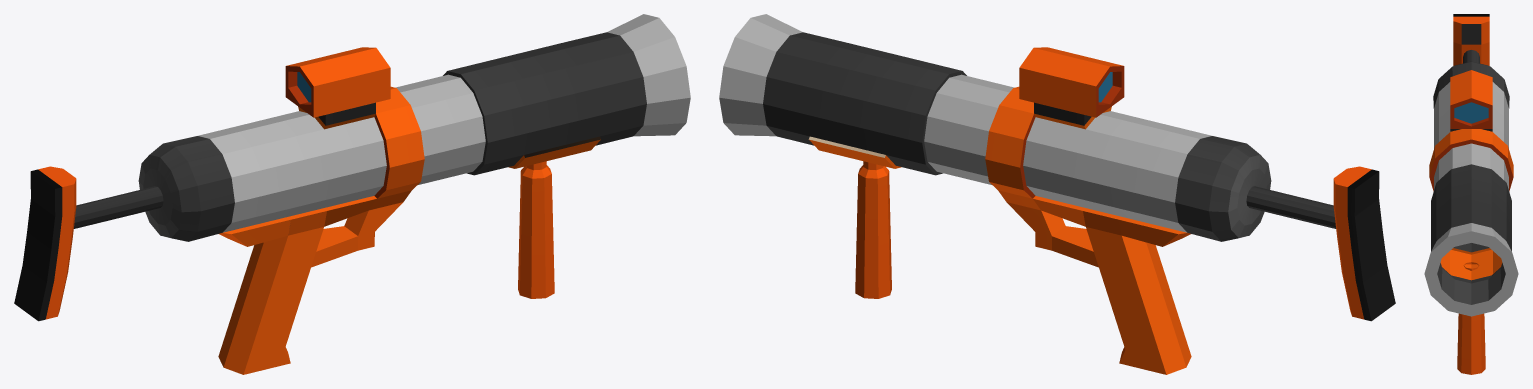
Rendered from grenade (2).fbx.
3 renders of one model, left to right at view 1: azimuth 30°, elevation 25°; view 2: azimuth 150°, elevation 25°; view 3: azimuth 270°, elevation 25°, orthographic. The views are drawn at different scales.
Visible parts, largest first — view 1: Cylinder; view 2: Cylinder; view 3: Cylinder.
Boxes of the visible parts, left/top/right/bottom form: Cylinder: left=14, top=14, right=690, bottom=374; Cylinder: left=719, top=14, right=1395, bottom=374; Cylinder: left=1424, top=14, right=1518, bottom=374.
Bounding box in the file's own units: 98.85 × 42.14 × 16.96.
1 material, 1 textured.
